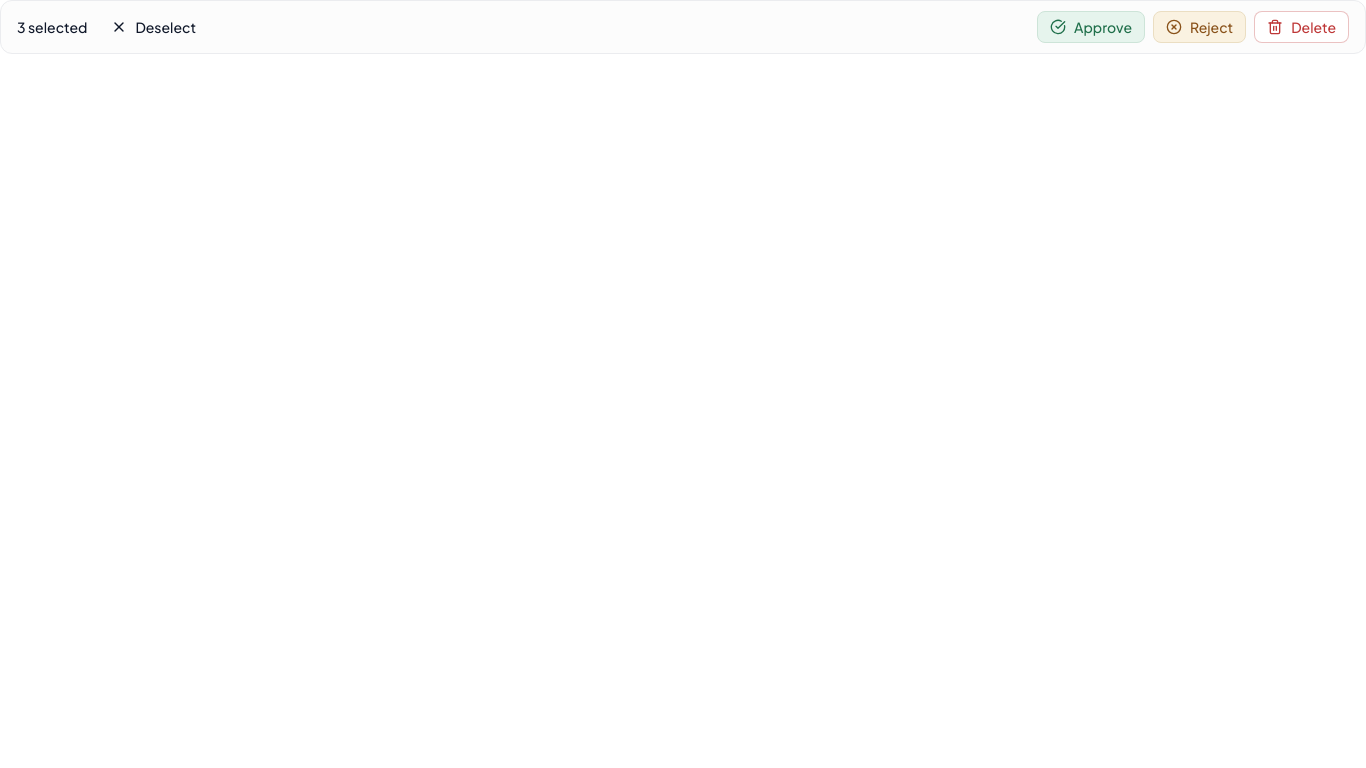
BulkActionsBar › shows confirmation dialog when reject is clicked
This screenshot has width=1366, height=768.
Click the button "Reject". click: (1200, 27)
box: [1153,11,1246,43]
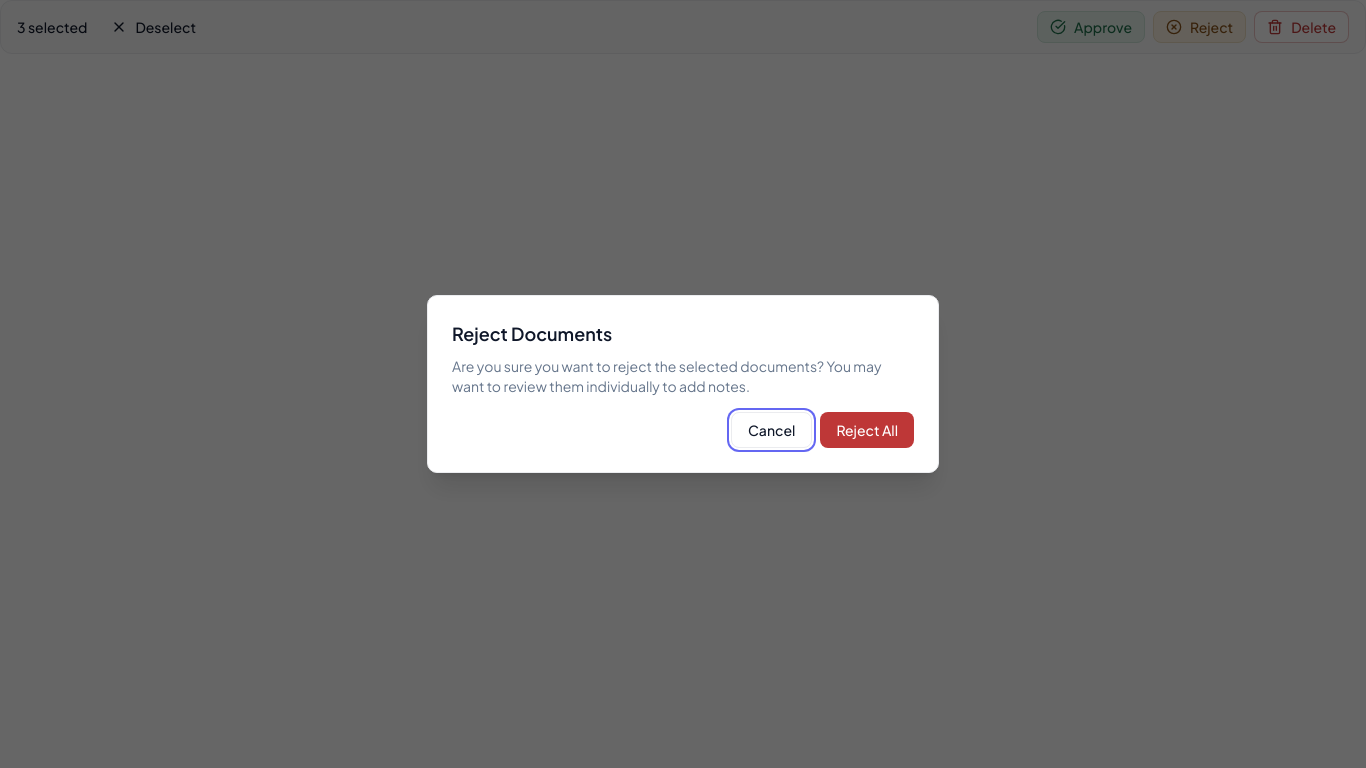
Expected: the heading "Reject Documents" is shown, [452,322,612,345]
